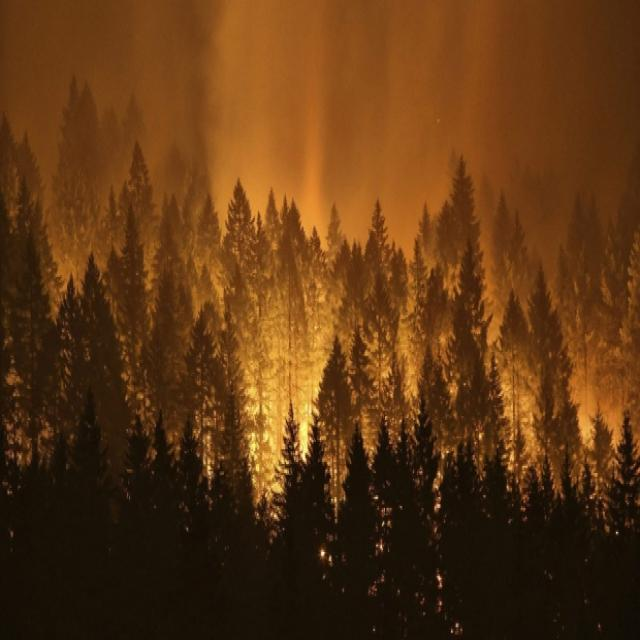Fire: (1, 80, 640, 627)
Smoke: (0, 0, 640, 274)
